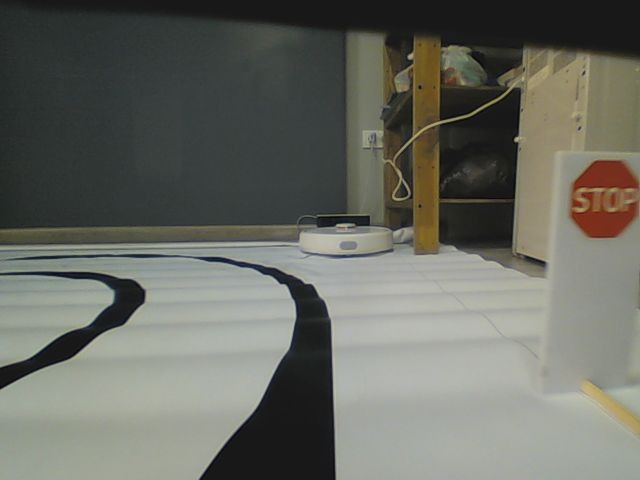Stop: (566, 158, 640, 241)
